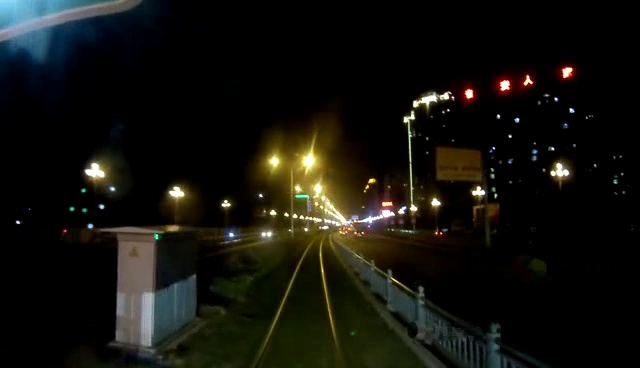car: (351, 226, 371, 240)
